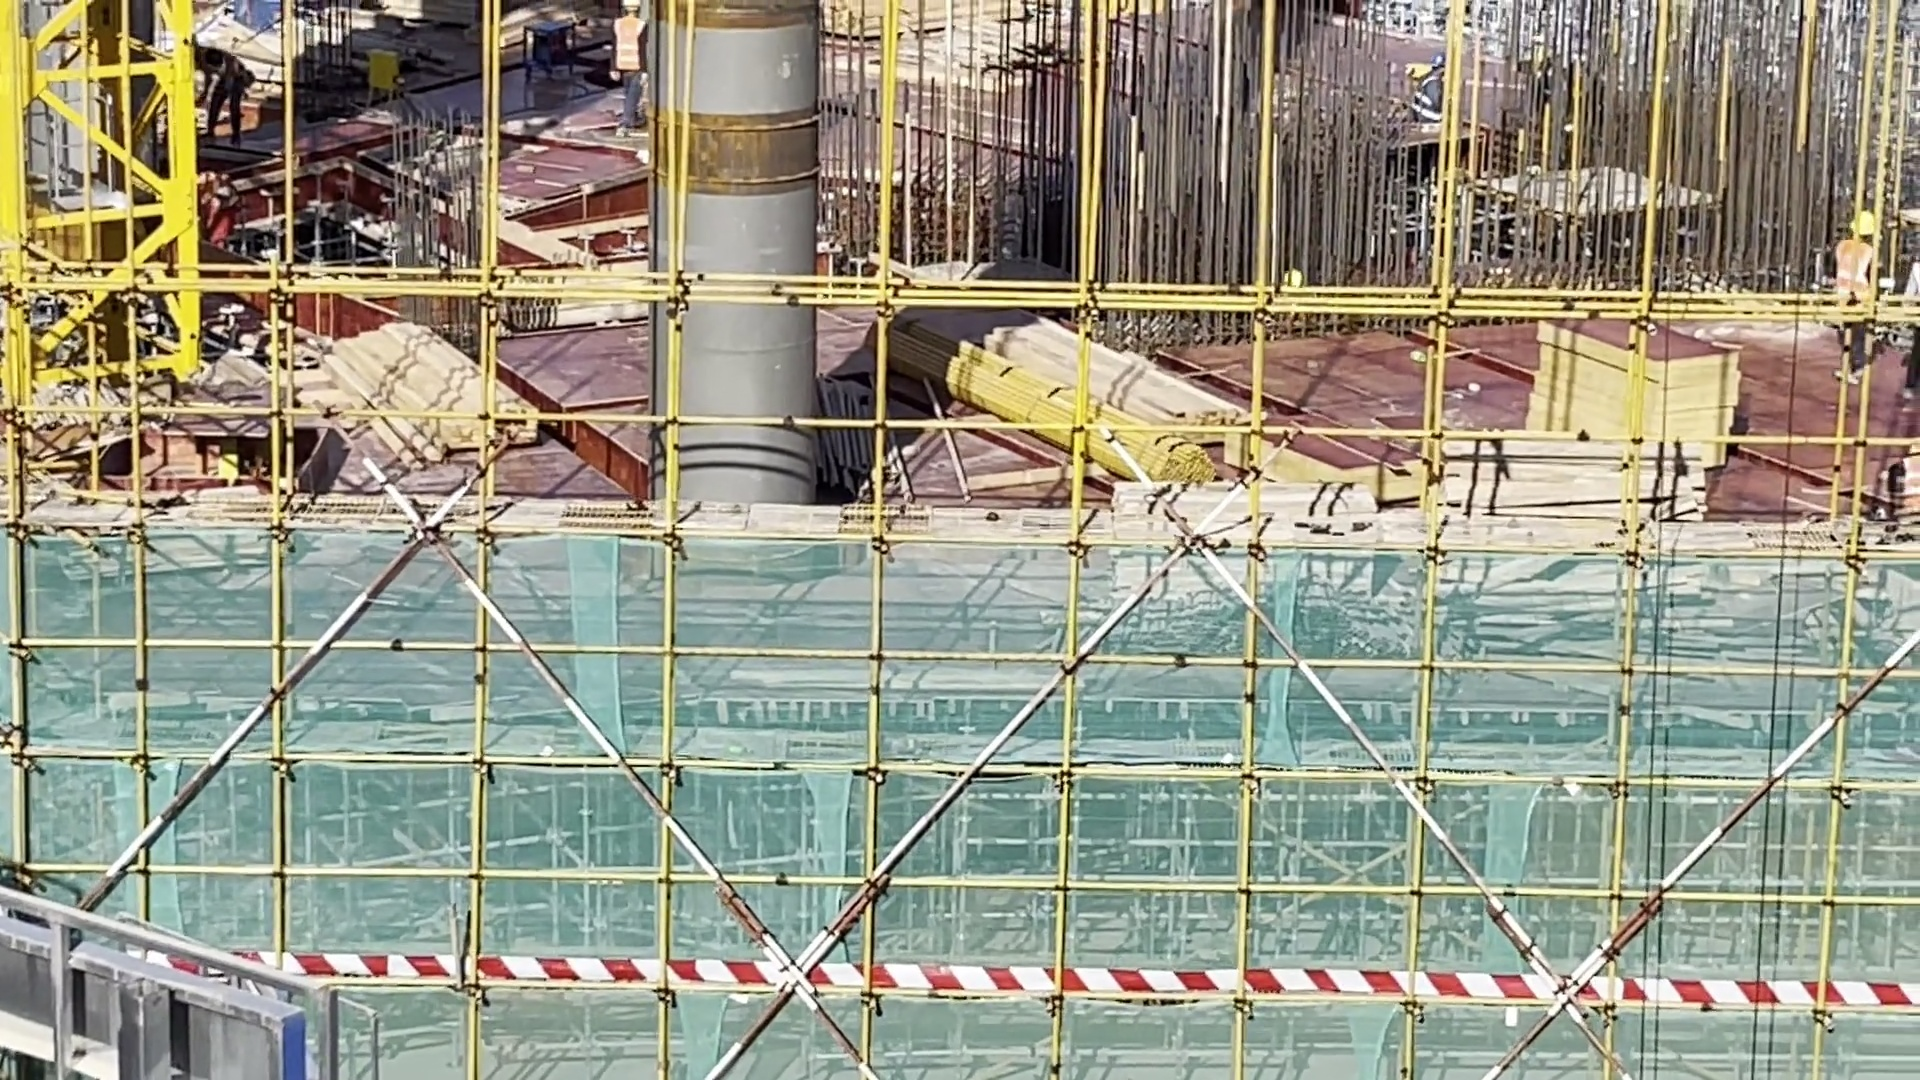board: (1531, 318, 1739, 460)
person: (1824, 206, 1875, 370), (597, 1, 648, 149)
vest: (1835, 235, 1872, 296), (614, 14, 643, 73)
wood: (994, 331, 1238, 473), (340, 314, 527, 472), (1436, 434, 1712, 519)
